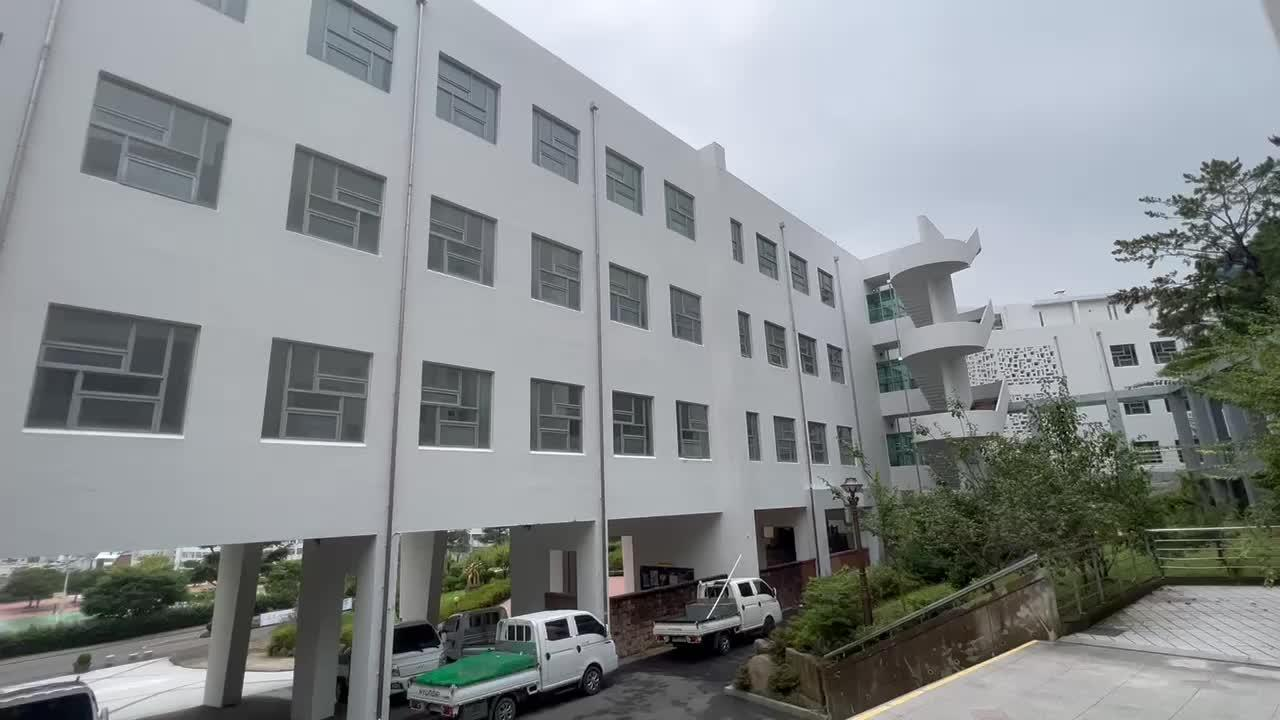building: (34, 19, 783, 503)
